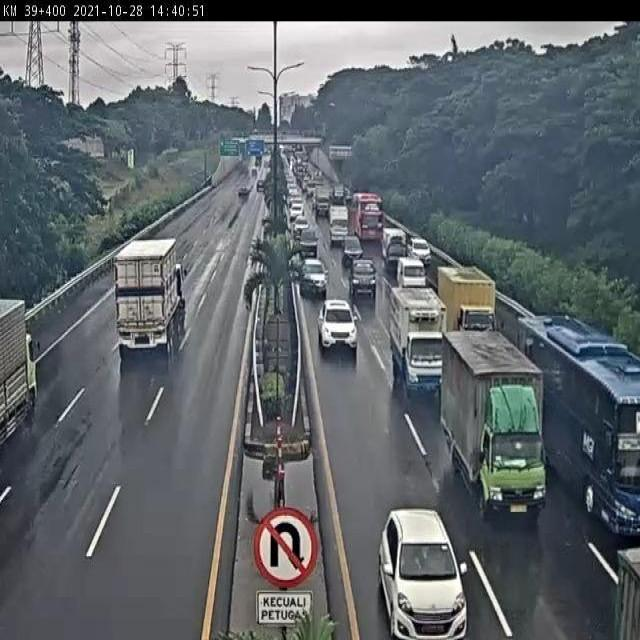big truck: (117, 235, 186, 346)
bus-l-: (517, 315, 640, 520)
car: (376, 512, 469, 640), (317, 300, 358, 351), (349, 257, 377, 295), (395, 255, 427, 288), (301, 257, 328, 296)
truck-m-: (441, 331, 548, 517), (388, 285, 446, 395), (436, 264, 497, 336)
